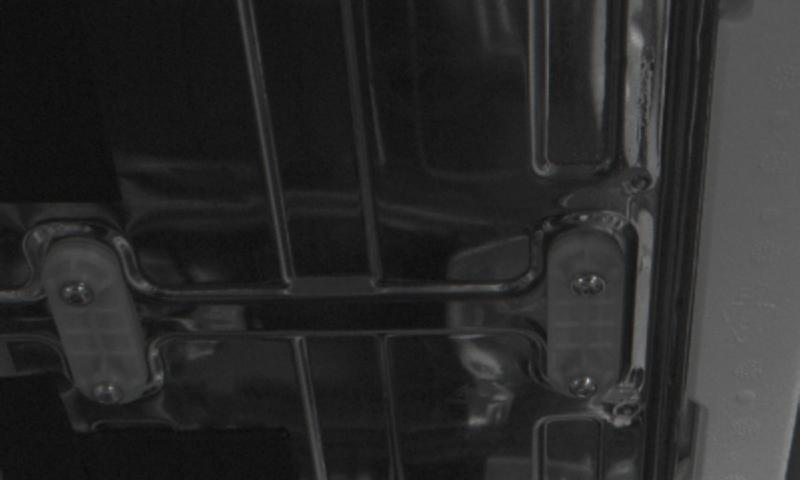vida-ok: (568, 262, 612, 307), (57, 271, 98, 316), (87, 373, 130, 413), (565, 368, 605, 407)
